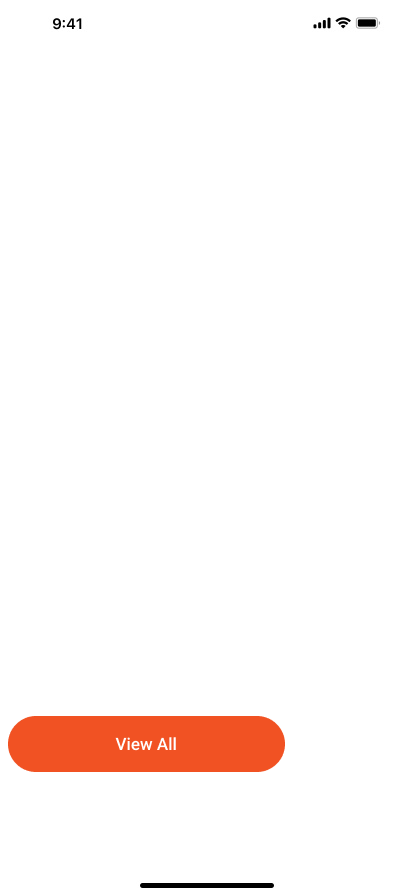Buttons: (8, 716, 285, 772)
Home Indicator: (0, 862, 414, 896)
Status Bar: (0, 0, 414, 44)
